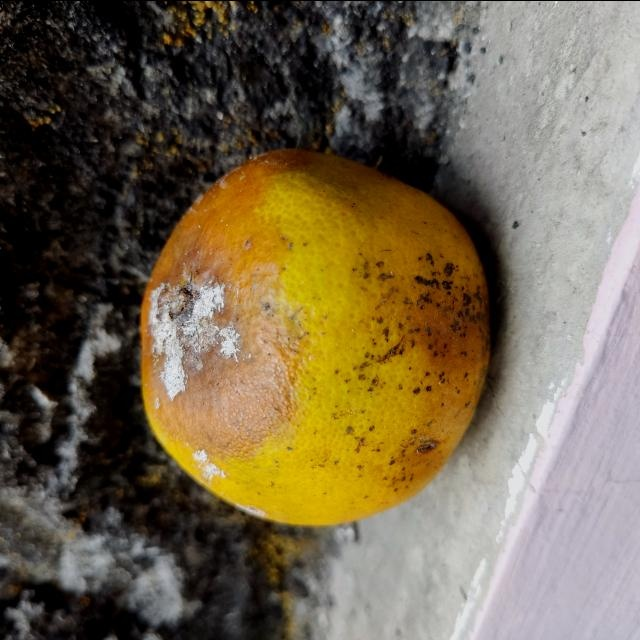agrume: (135, 145, 493, 527)
